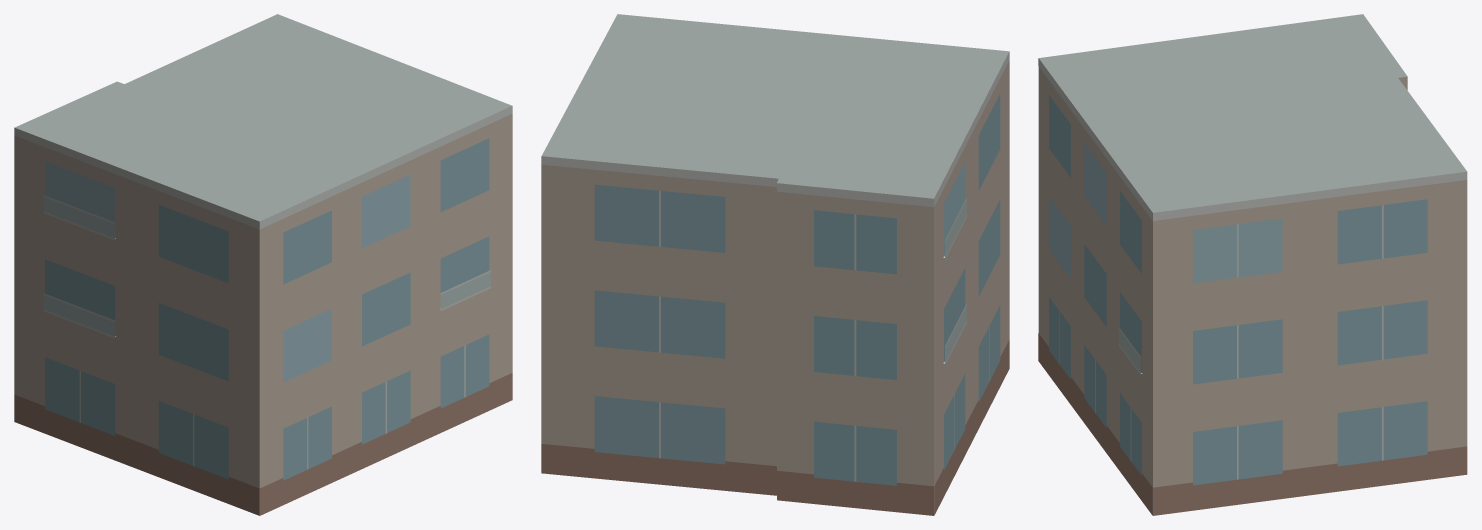
File: survey-upis-32676842.glb
3 renders of one model, left to right at view 1: azimuth 30°, elevation 25°; view 2: azimuth 150°, elevation 25°; view 3: azimuth 270°, elevation 25°, orthographic. The views are drawn at different scales.
Parts seen in each view (by area): view 1: survey-upis-32676842.tmp; view 2: survey-upis-32676842.tmp; view 3: survey-upis-32676842.tmp.
Boxes of the visible parts, x1,y1,x2,y2 form: survey-upis-32676842.tmp: (14,14,512,515); survey-upis-32676842.tmp: (541,14,1009,515); survey-upis-32676842.tmp: (1038,14,1467,515).
Bounding box in the file's own units: 12.82 × 9.1 × 11.68.
